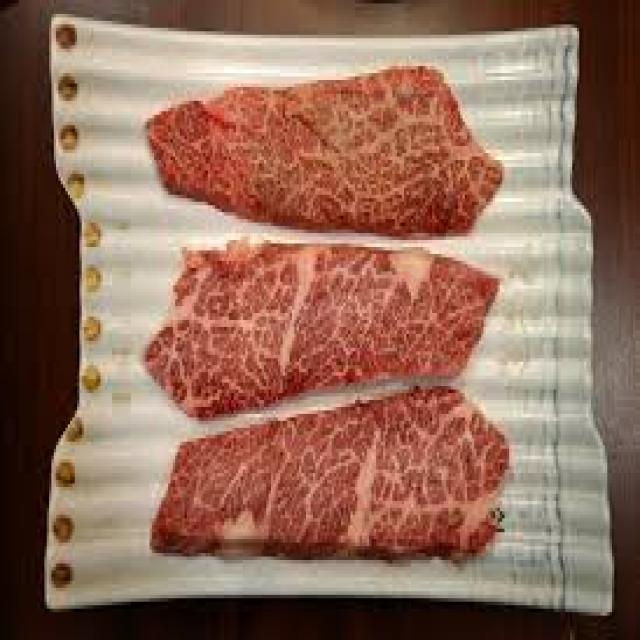Beef: (153, 390, 513, 558), (149, 66, 505, 235), (145, 250, 500, 419)
